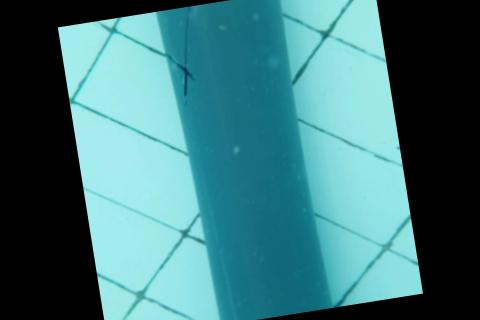keretakan: (160, 5, 210, 103)
